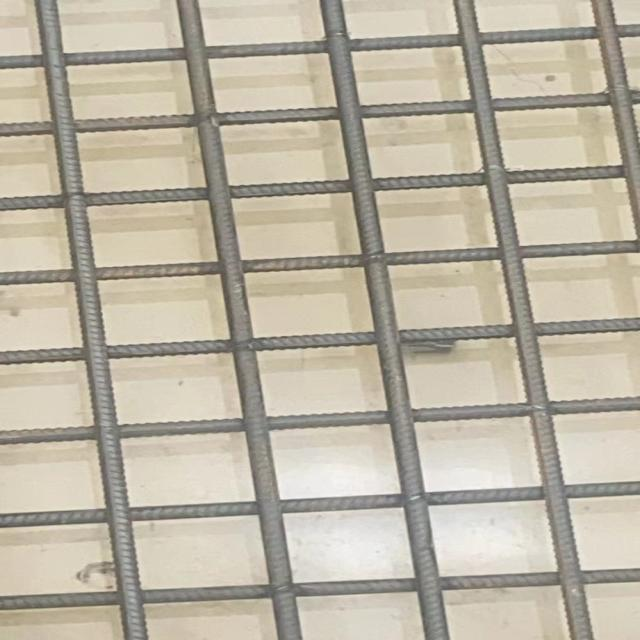ribbed bar: (452, 0, 594, 639), (318, 0, 452, 639), (173, 0, 305, 639), (32, 0, 150, 639), (0, 394, 639, 446), (0, 480, 639, 529), (0, 24, 639, 71), (0, 90, 639, 137), (0, 238, 639, 285), (0, 316, 639, 363), (0, 163, 623, 210), (0, 567, 639, 610), (589, 0, 639, 234)
